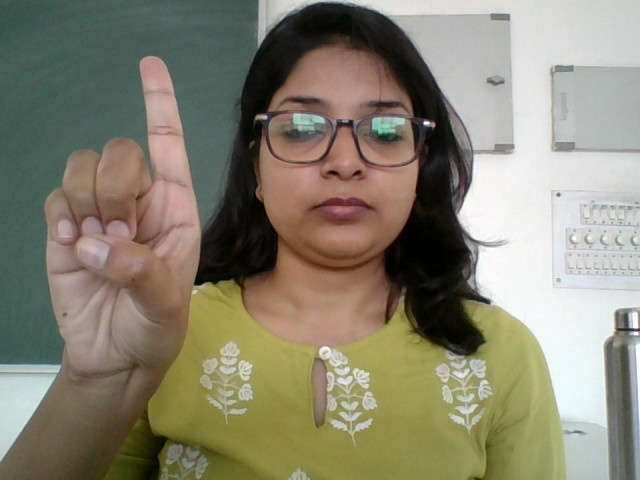D: (32, 52, 219, 396)
